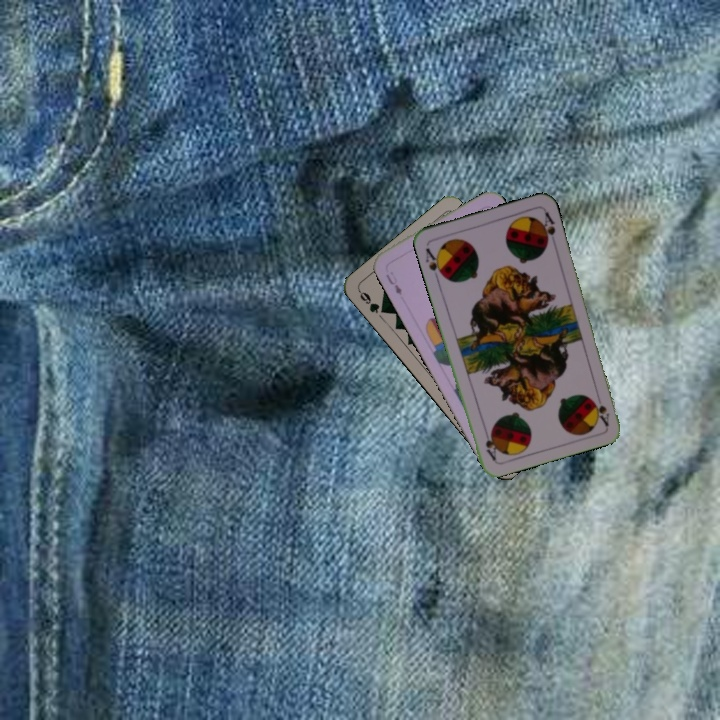EU: (382, 267, 405, 298)
G9: (355, 286, 390, 316)
SA: (422, 244, 447, 282), (589, 396, 612, 428)
